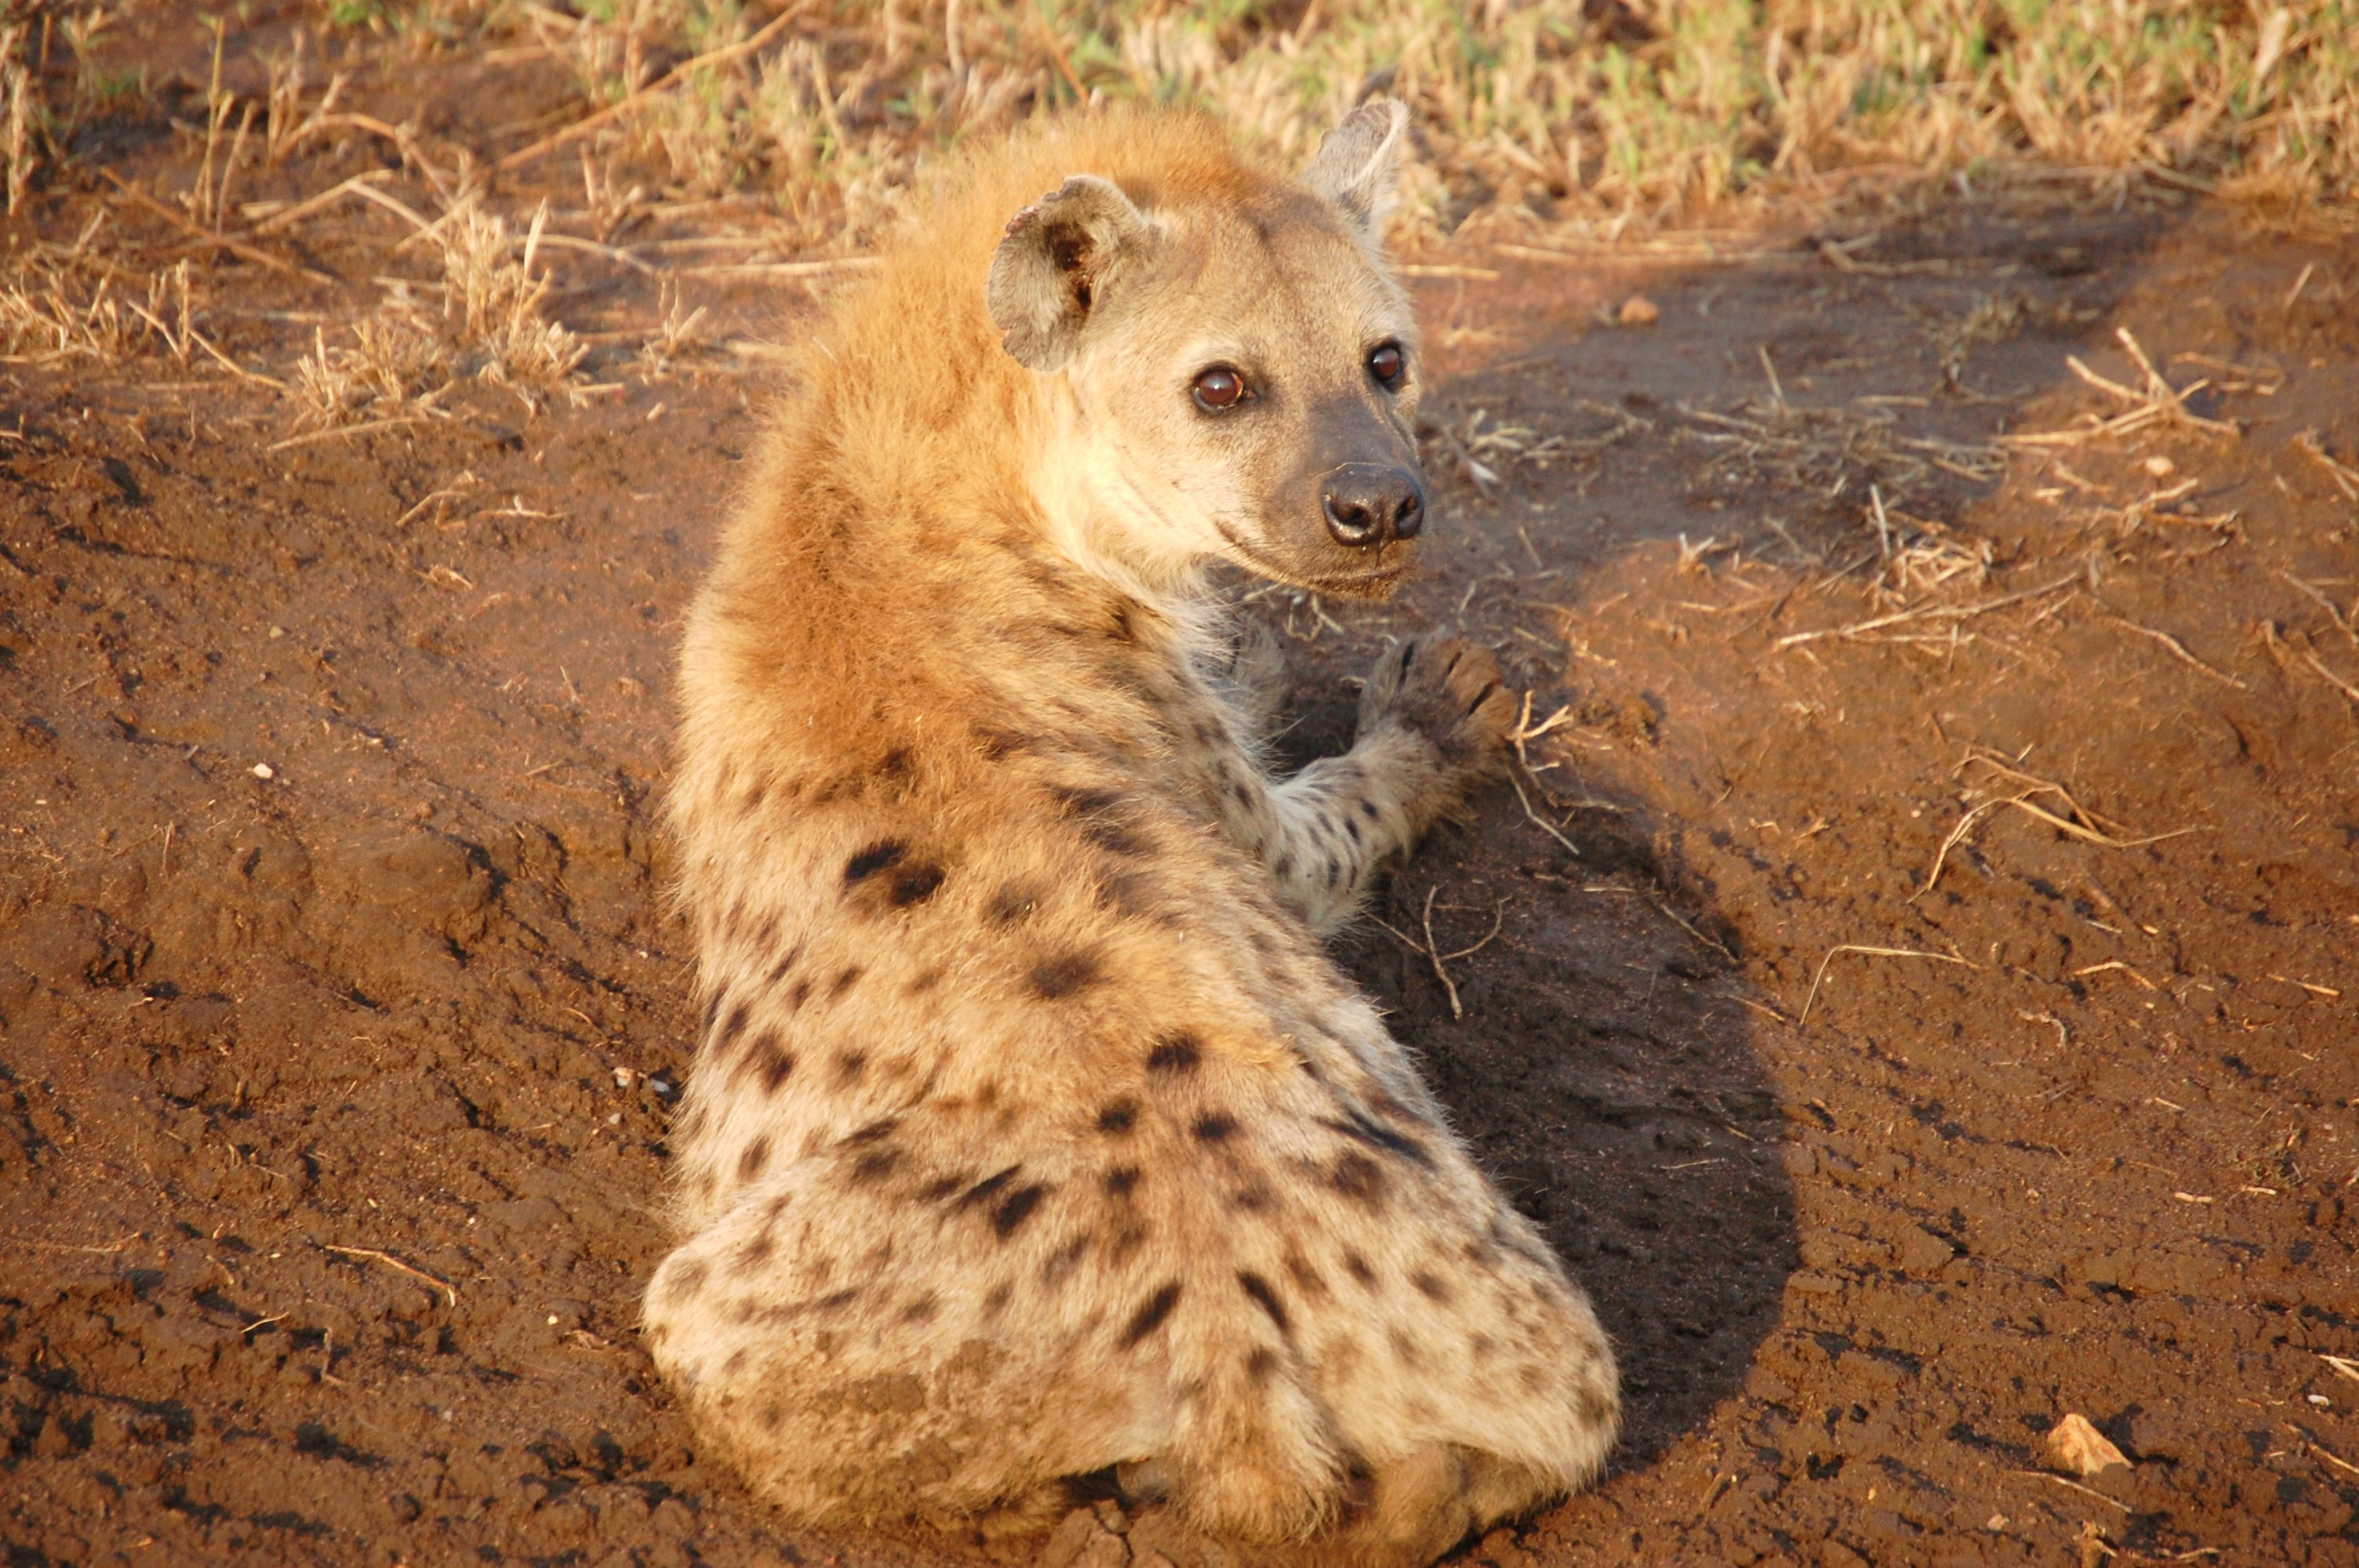hyena: (620, 59, 1624, 1545)
